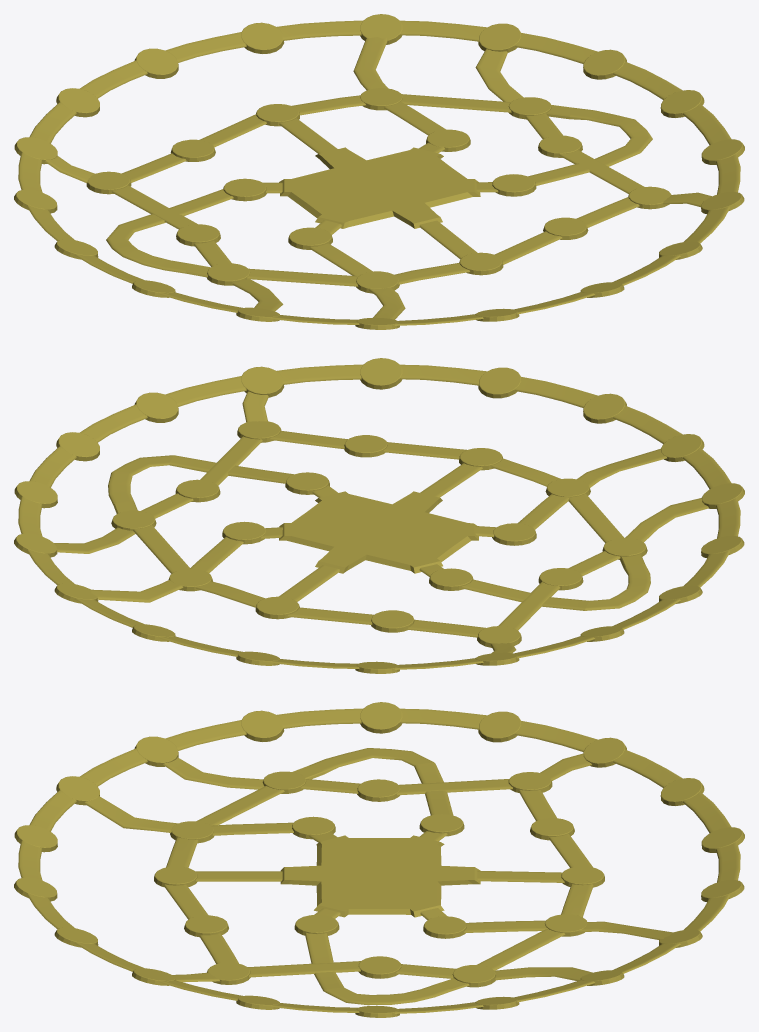
Rendered from Env_Arena_Track_25.fbx.
The picture shows the model from 3 angles, top to bottom: view 1: azimuth 30°, elevation 25°; view 2: azimuth 150°, elevation 25°; view 3: azimuth 270°, elevation 25°; orthographic projection.
Parts seen in each view (by area): view 1: Track; view 2: Track; view 3: Track.
Boxes of the visible parts, left/top/right/bottom form: Track: left=14, top=14, right=744, bottom=329; Track: left=14, top=358, right=744, bottom=673; Track: left=14, top=702, right=744, bottom=1017.
Size of the model in its own units: 40731 by 1437 by 40155.
